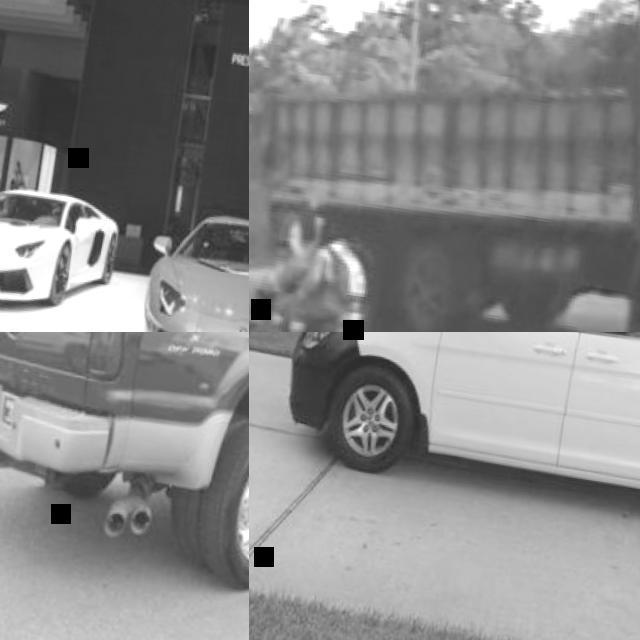car: (284, 175, 639, 483), (0, 191, 120, 304)
